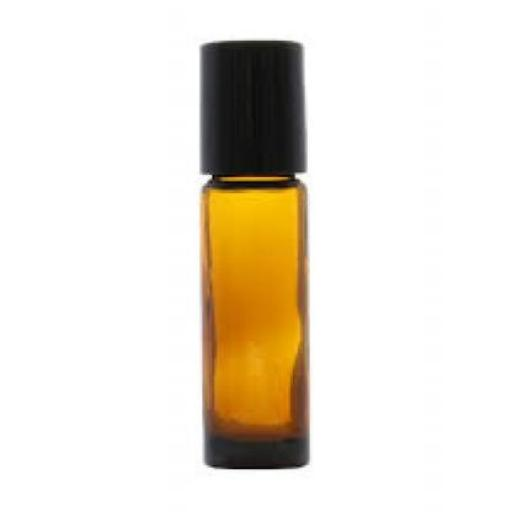glass: (198, 174, 307, 468)
plastic: (198, 38, 304, 175)
